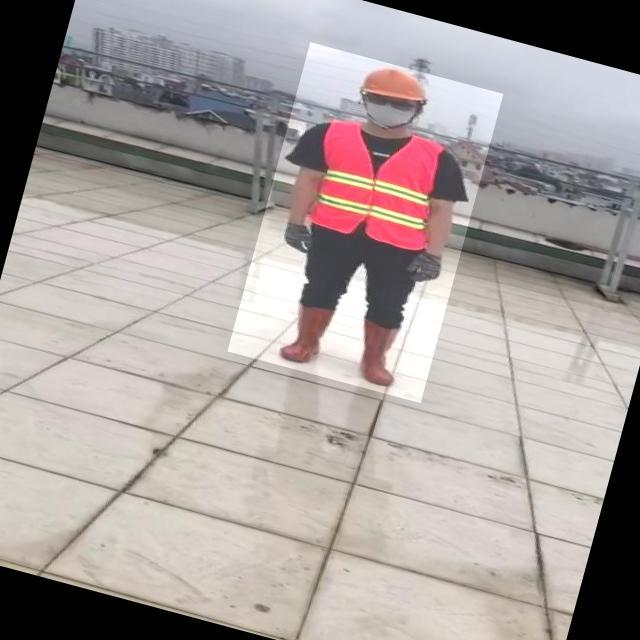Gloves: (404, 248, 448, 290), (277, 220, 319, 255)
Helmet: (353, 58, 433, 108)
Human: (227, 42, 503, 403)
Safety Boot: (345, 315, 412, 392), (277, 298, 337, 369)
Safety Vest: (304, 113, 450, 253)
